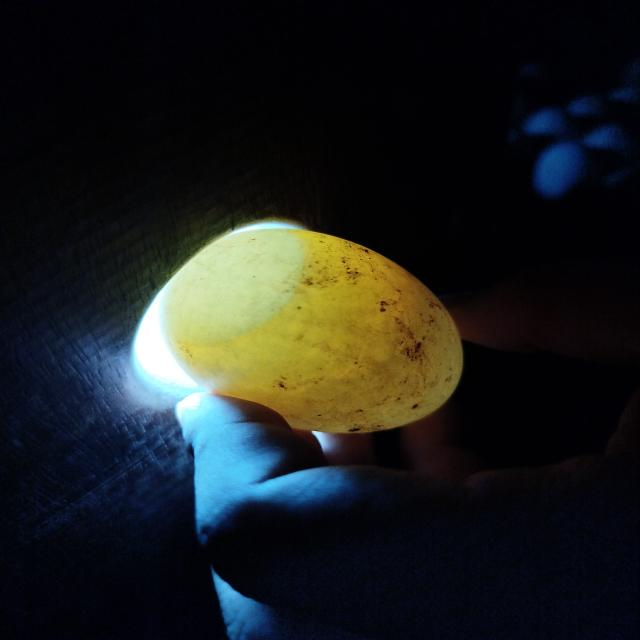Camara de Ar: (157, 227, 303, 345)
